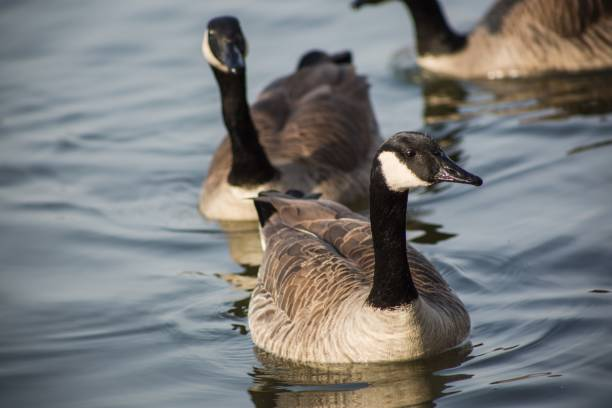goose: (240, 127, 486, 366), (195, 13, 394, 224), (348, 1, 612, 85)
